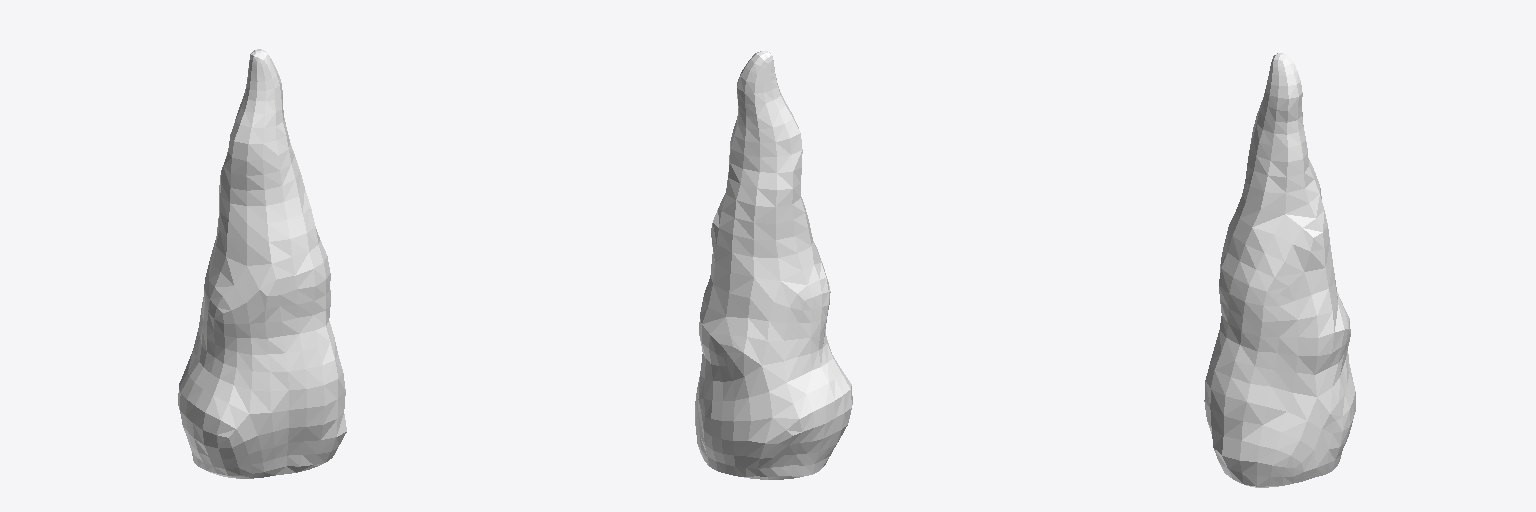
The model's file is Stalactite03.Obj.
3 renders of one model, left to right at view 1: azimuth 30°, elevation 25°; view 2: azimuth 150°, elevation 25°; view 3: azimuth 270°, elevation 25°, orthographic.
Visible parts, largest first — view 1: Volume34; view 2: Volume34; view 3: Volume34.
Part boxes in pixels (x1,y1,x2,y2): Volume34: (178, 49, 346, 478); Volume34: (695, 51, 852, 479); Volume34: (1204, 53, 1355, 487).
Bounding box in the file's own units: 101 × 281 × 94.31.